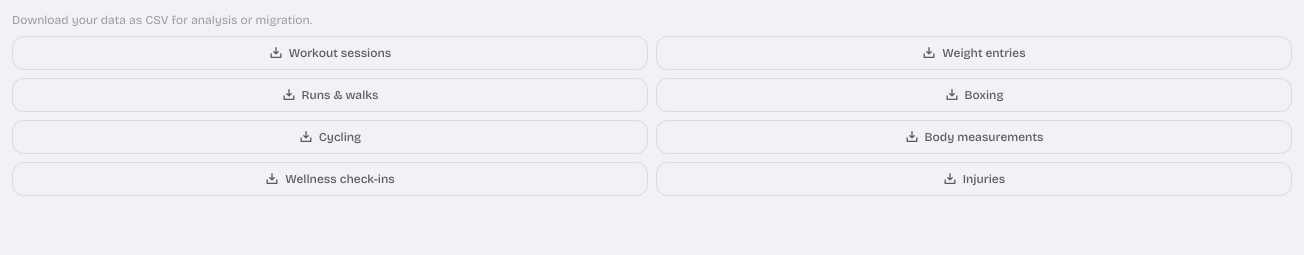
Test: ExportSection › shows an error message when export fails
The image size is (1304, 255).
Click the button with aria-label "Export Runs & walks" at (330, 95), box 12,78 -> 648,112
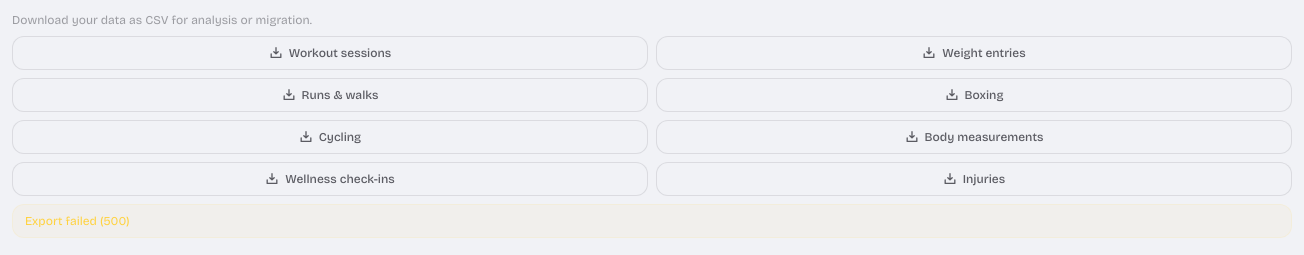
Expected: the text "Export failed (500)" is shown, 12,204 -> 1292,238
